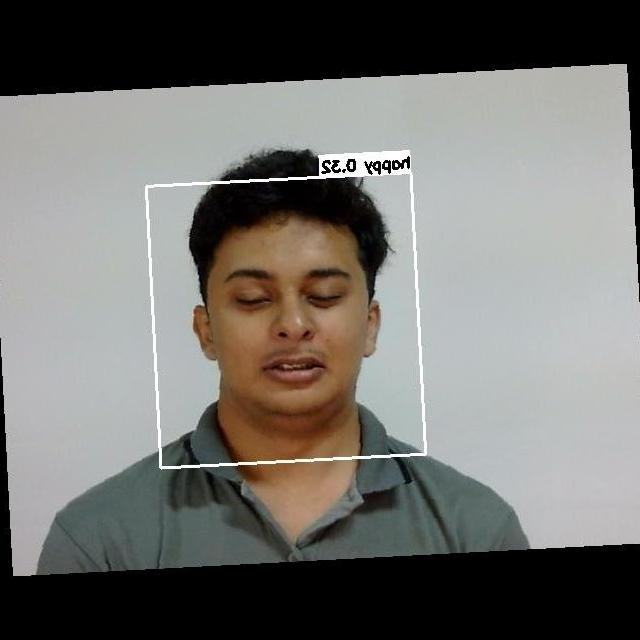Fear: (198, 233, 375, 412)
